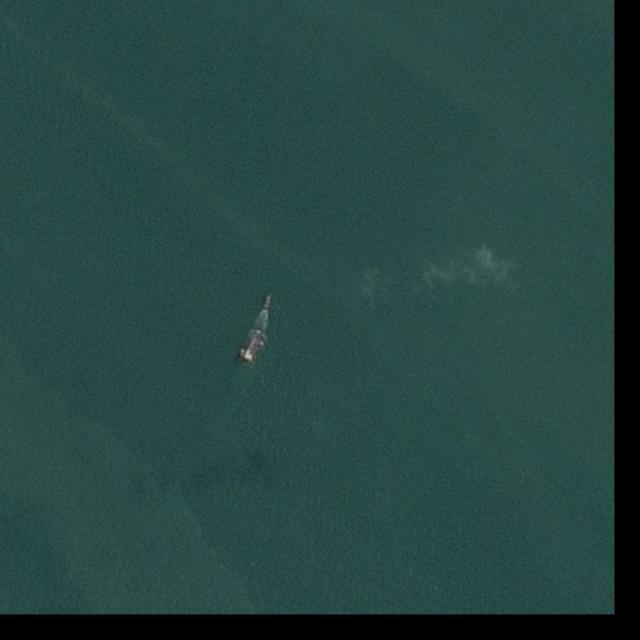ship: (236, 326, 270, 364), (262, 294, 274, 307)
